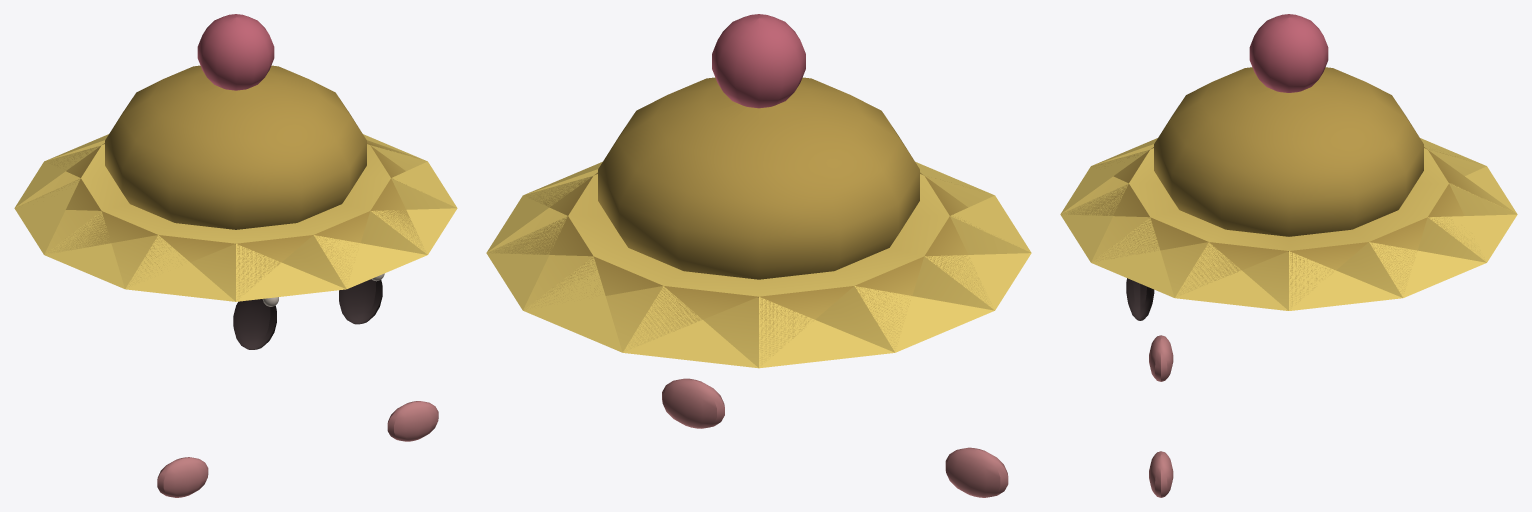
3 renders of one model, left to right at view 1: azimuth 30°, elevation 25°; view 2: azimuth 150°, elevation 25°; view 3: azimuth 270°, elevation 25°, orthographic. The views are drawn at different scales.
Visible parts, largest first — view 1: pet_pd52f9061; view 2: pet_pd52f9061; view 3: pet_pd52f9061.
Boxes of the visible parts, <box> form: pet_pd52f9061: <box>14,14,457,497</box>; pet_pd52f9061: <box>486,14,1031,497</box>; pet_pd52f9061: <box>1060,14,1517,497</box>.
Size of the model in its own units: 0.4 by 0.4039 by 0.4.
